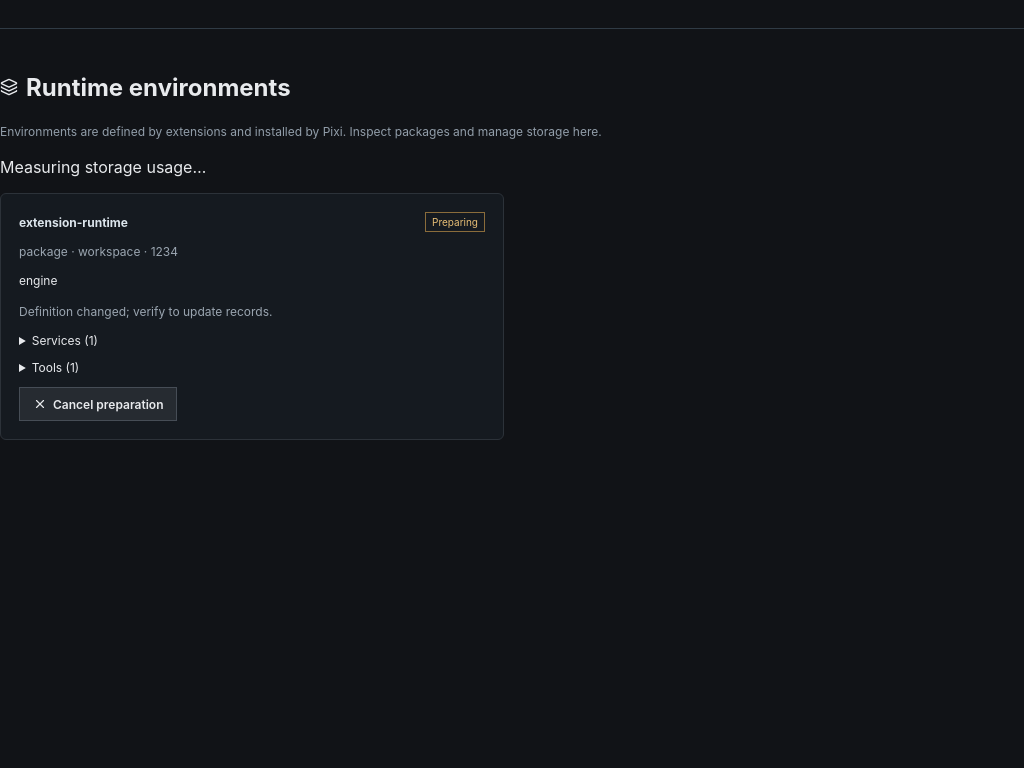
Test: cancels preparation and exposes actionable errors
Click the button "Cancel preparation": (98,404) top-left (19, 387), bottom-right (178, 421)
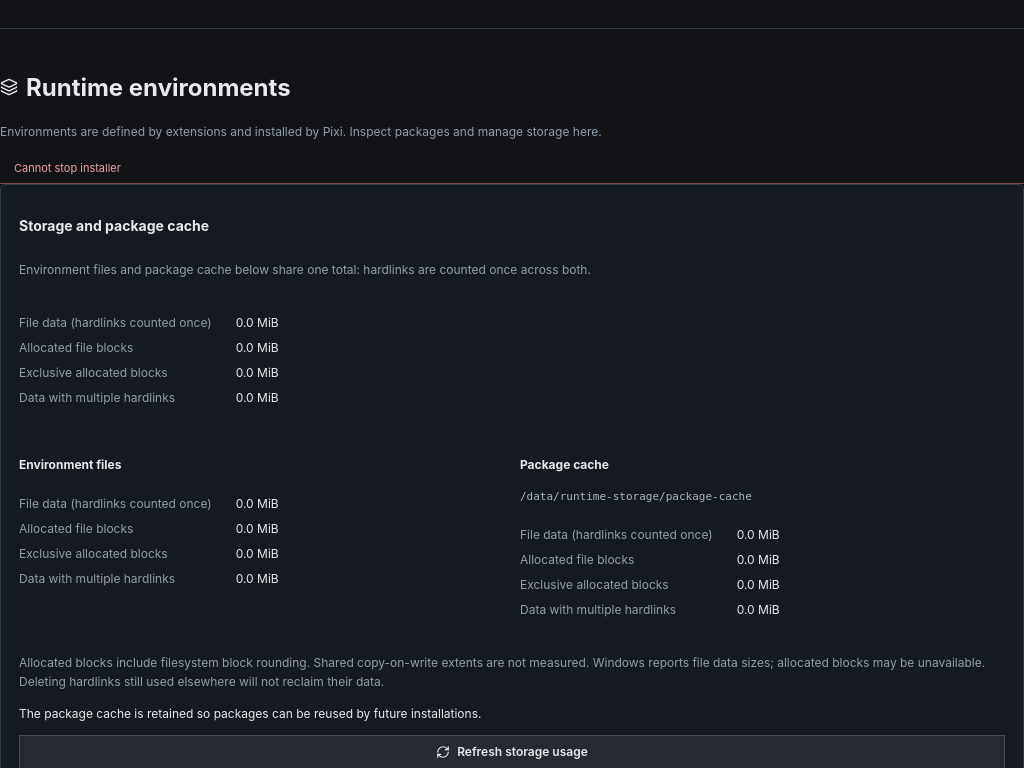
Expected: the message reads "Cannot stop installer", top-left (14, 161), bottom-right (121, 175)
